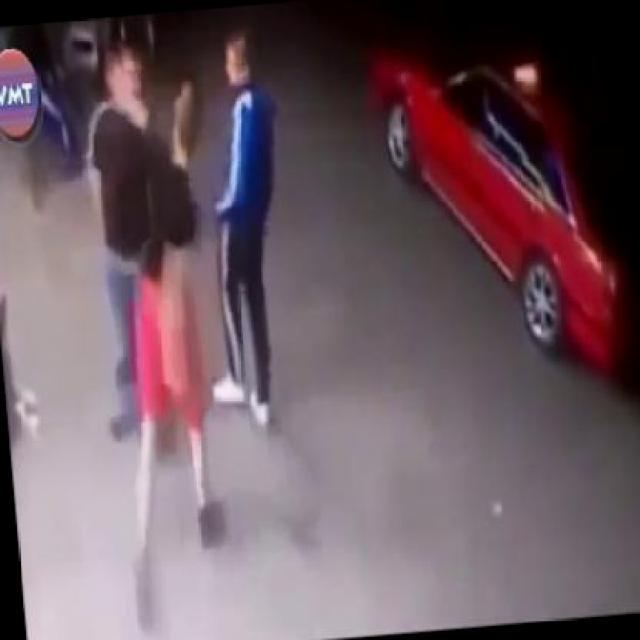fight: (81, 44, 228, 443)
